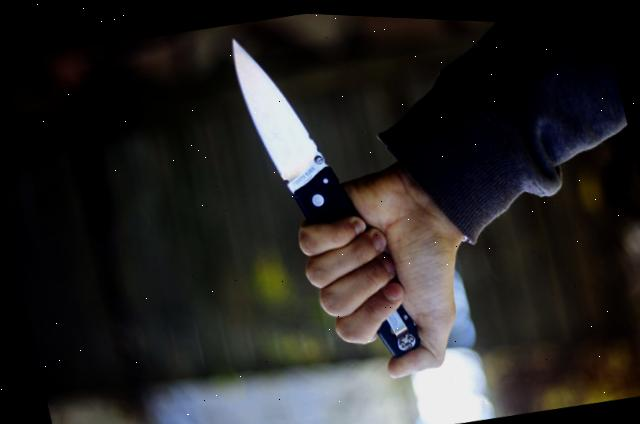pocket-knife: (208, 7, 412, 324)
